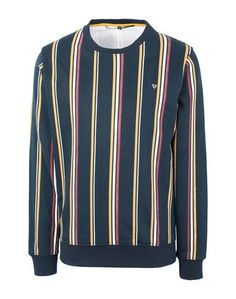striped: (24, 17, 214, 267)
